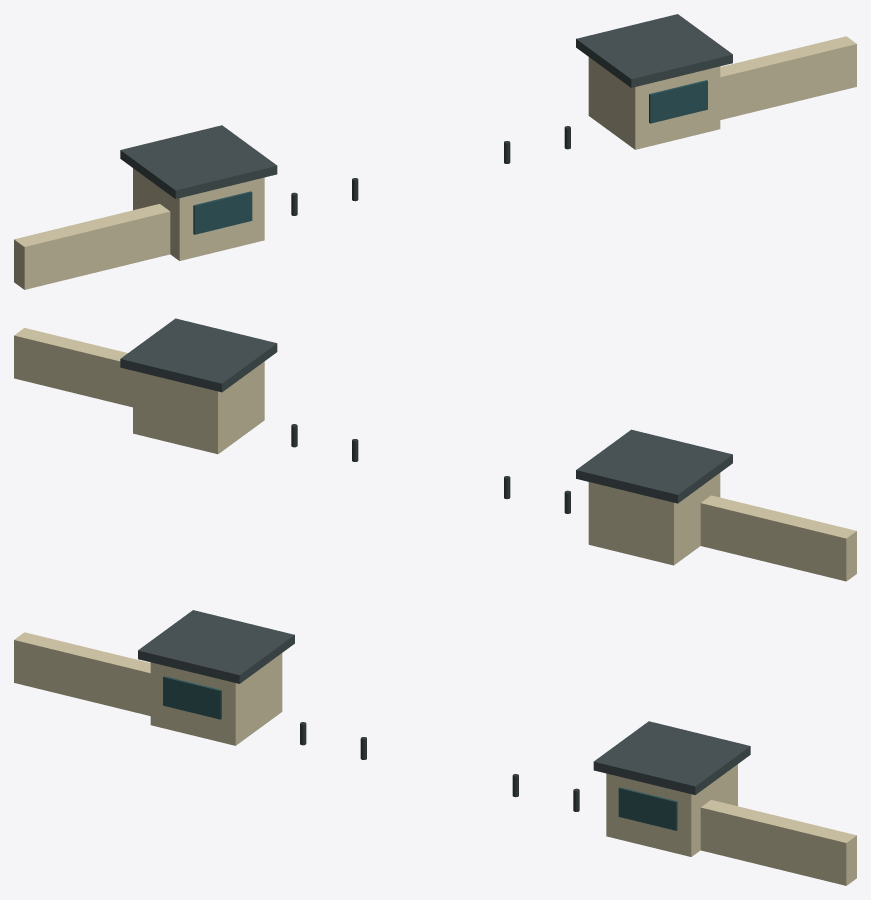
The model's file is south_gate.glb.
3 views of the same model, one above another, from view 1: azimuth 30°, elevation 25°; view 2: azimuth 150°, elevation 25°; view 3: azimuth 330°, elevation 25° (orthographic).
Parts seen in each view (by area): view 1: CampusSignWall, GateRoof, GateHouse, GateGlass, AccessBollards; view 2: GateHouse, CampusSignWall, GateRoof, AccessBollards; view 3: CampusSignWall, GateRoof, GateHouse, GateGlass, AccessBollards.
Part boxes in pixels (x1,y1,x2,y2): CampusSignWall: [14, 36, 856, 289]; GateRoof: [120, 14, 732, 198]; GateHouse: [133, 57, 720, 260]; GateGlass: [193, 80, 707, 234]; AccessBollards: [291, 126, 570, 215]; GateHouse: [133, 361, 720, 565]; CampusSignWall: [14, 328, 856, 581]; GateRoof: [120, 318, 732, 503]; AccessBollards: [291, 424, 570, 513]; CampusSignWall: [14, 632, 856, 885]; GateRoof: [138, 610, 750, 794]; GateHouse: [150, 653, 737, 856]; GateGlass: [163, 676, 677, 830]; AccessBollards: [300, 722, 579, 811].
Size of the model in its own units: 54.8 by 4.78 by 6.3.
